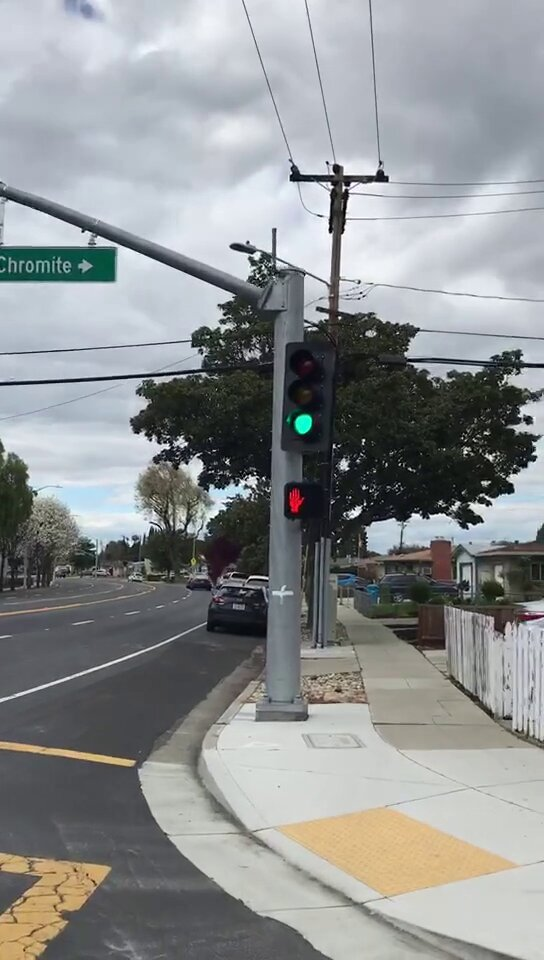green_light: (286, 342, 330, 451)
